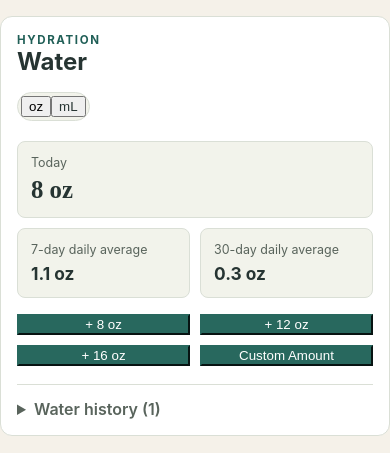
Test case: switching display units never mutates an entry's canonical amount
Expected: the text "Today" shows "8 oz", [31,176,73,203]
Click the button with aria-label "Display water in milliliters" at (68, 106), box [51,96,86,117]
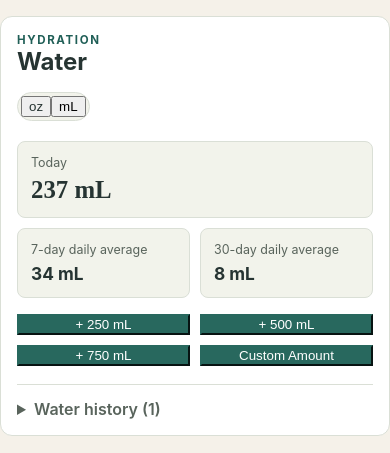
Result: the text "Today" shows "237 mL" at [31,176,112,203]
Click the button with aria-label "Display water in fluid ounces" at (36, 106), box [21,96,51,117]
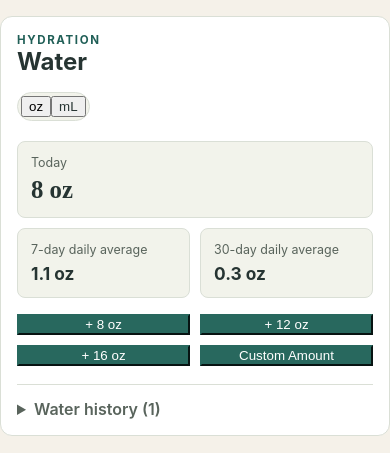
Result: the text "Today" shows "8 oz" at [31,176,73,203]
